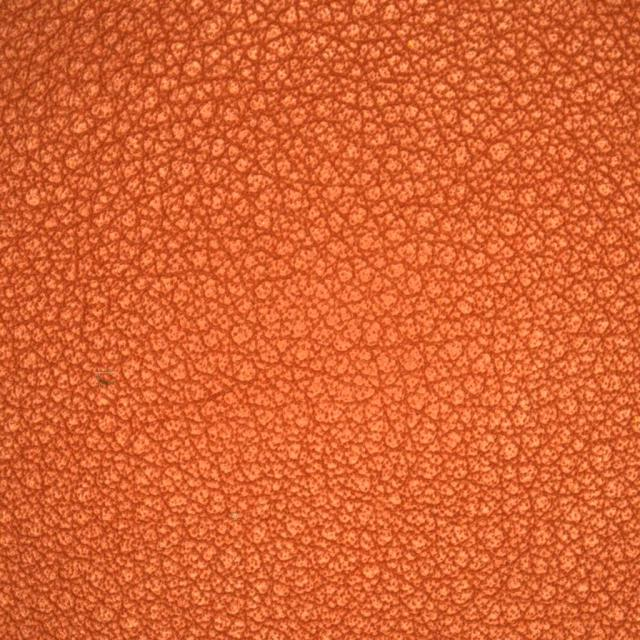pinhole: (38, 292, 194, 498)
